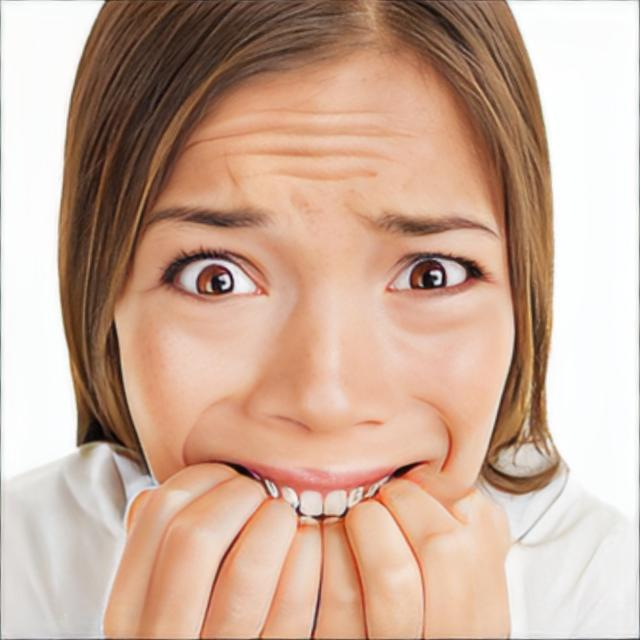fear: (116, 55, 516, 562)
